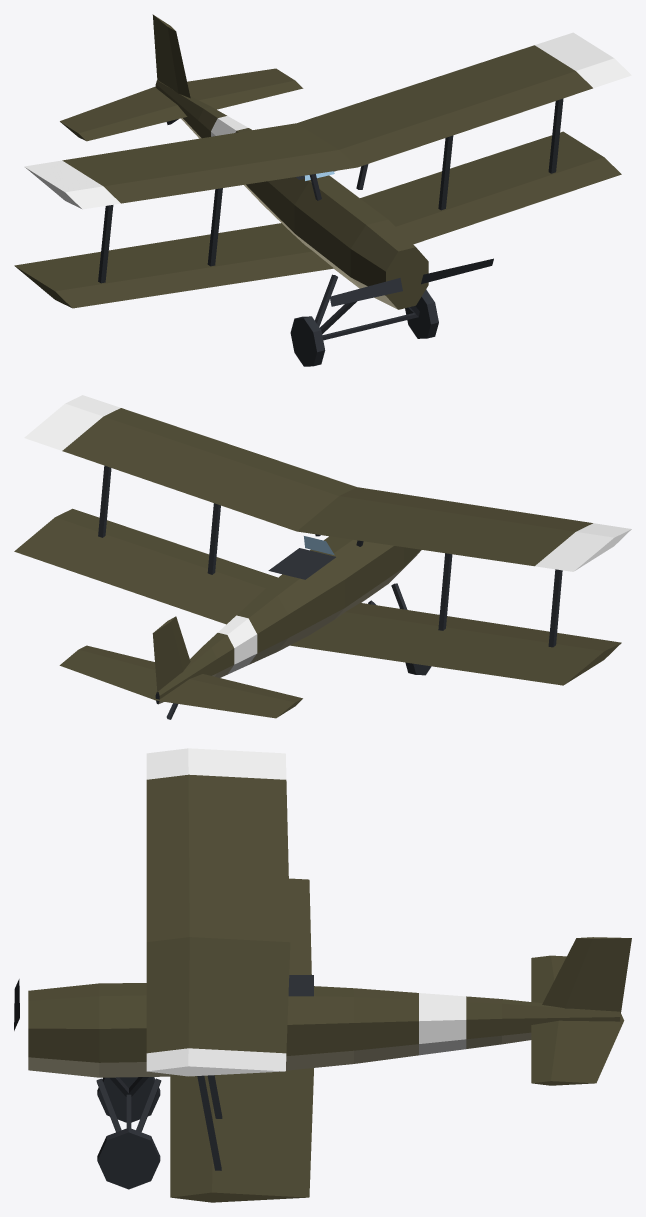
3 views of the same model, one above another, from view 1: azimuth 30°, elevation 25°; view 2: azimuth 150°, elevation 25°; view 3: azimuth 270°, elevation 25° (orthographic). The views are drawn at different scales.
Visible parts, largest first — view 1: body, prop; view 2: body; view 3: body.
Part boxes in pixels (bbox=[...]): body: bbox=[14, 14, 631, 366]; prop: bbox=[329, 258, 493, 306]; body: bbox=[14, 395, 631, 719]; body: bbox=[28, 748, 631, 1202].
Size of the model in its own units: 8.11 by 2.94 by 6.66.
